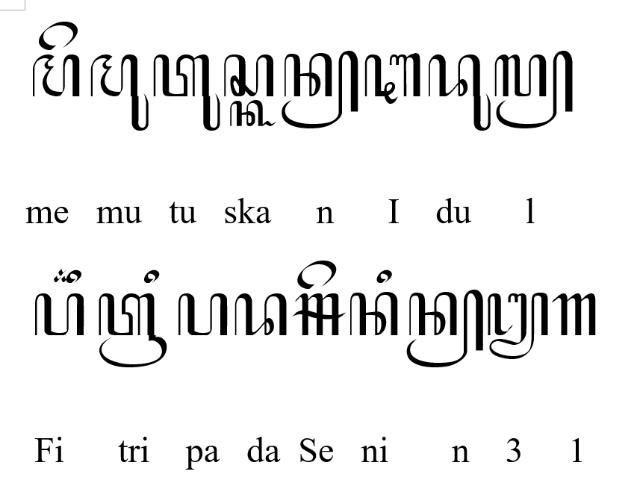-l: (494, 49, 574, 129)
-n: (279, 50, 359, 130), (406, 288, 484, 368)
I: (364, 53, 422, 106)
S: (292, 292, 346, 336)
_k: (230, 99, 276, 129)
alt: (53, 268, 71, 283)
d: (234, 292, 288, 338)
du: (428, 52, 490, 132)
e: (38, 20, 78, 51), (297, 260, 337, 290)
g: (552, 292, 598, 338)
i: (66, 268, 82, 283), (144, 268, 158, 284), (376, 269, 392, 283)
m: (31, 53, 80, 97)
mu: (90, 54, 150, 130)
n: (349, 292, 398, 336)
ngya: (486, 292, 548, 360)
p: (178, 292, 228, 338), (34, 292, 86, 336)
s: (223, 55, 274, 98)
tr: (98, 292, 168, 368)
tu: (153, 53, 221, 132)
